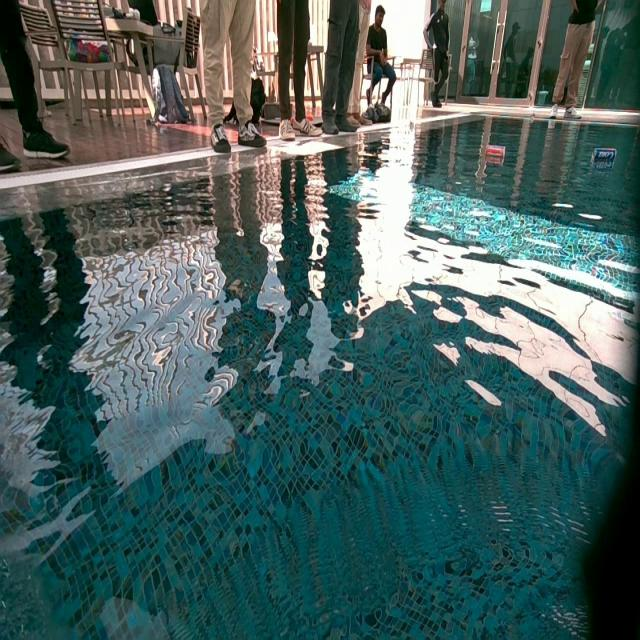Cans: (592, 147, 616, 167), (486, 144, 506, 166)
